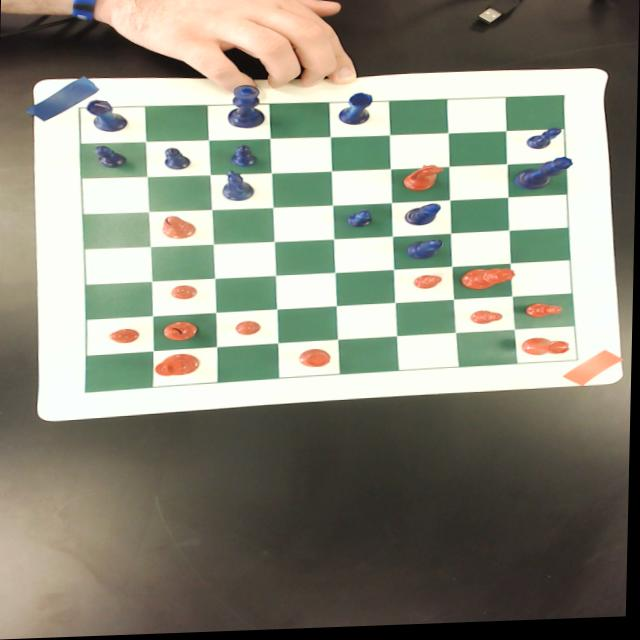B: (405, 242, 445, 264), (404, 207, 442, 230)
K: (227, 86, 266, 131)
N: (220, 169, 255, 203)
P: (93, 145, 128, 170), (527, 131, 563, 154), (230, 146, 259, 170), (163, 149, 192, 172), (345, 212, 374, 231)
Q: (513, 161, 574, 195)
R: (86, 99, 132, 134), (340, 95, 374, 128)
b: (162, 217, 196, 242), (163, 322, 199, 343)
k: (156, 354, 201, 378)
n: (402, 167, 445, 195)
p: (525, 307, 563, 322), (471, 313, 505, 329), (109, 328, 141, 345), (414, 278, 444, 294), (235, 322, 263, 338), (171, 286, 199, 302)
q: (461, 271, 517, 294)
r: (521, 340, 572, 361), (300, 351, 333, 370)
